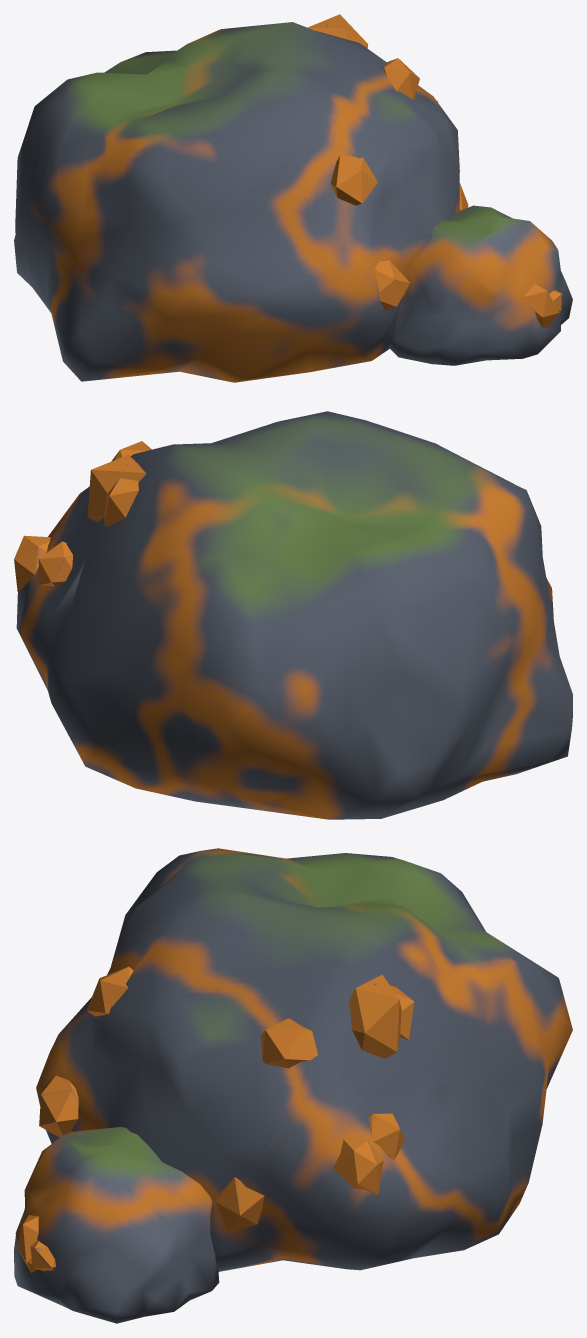
File: season_rock_a.glb
3 renders of one model, top to bottom at view 1: azimuth 30°, elevation 25°; view 2: azimuth 150°, elevation 25°; view 3: azimuth 270°, elevation 25°, orthographic. The views are drawn at different scales.
Visible parts, largest first — view 1: nug; view 2: nug; view 3: nug.
Boxes of the visible parts, bbox=[...] form: nug: bbox=[14, 14, 572, 382]; nug: bbox=[14, 411, 572, 819]; nug: bbox=[14, 848, 572, 1323].
Size of the model in its own units: 1.81 by 0.9875 by 1.65.
1 material, 1 textured.
